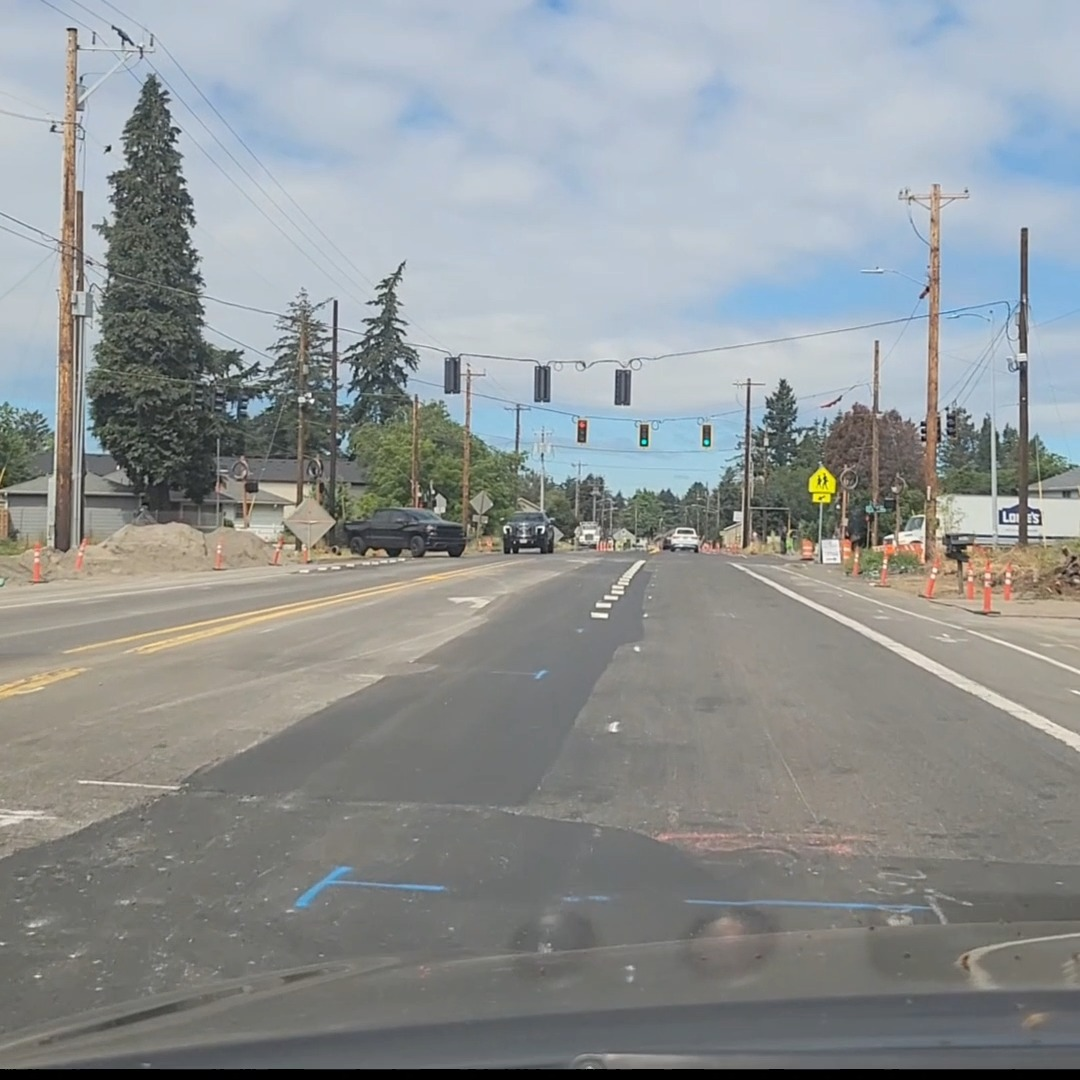car: (340, 507, 465, 557), (498, 510, 556, 553), (661, 527, 702, 552), (574, 520, 602, 548)
crosswalk-sign: (808, 465, 836, 495)
delineator: (968, 566, 1000, 615), (920, 552, 940, 598), (877, 545, 892, 585), (30, 542, 44, 583), (75, 538, 89, 571), (269, 535, 284, 565), (1001, 564, 1013, 601), (965, 561, 976, 600), (213, 541, 225, 570), (850, 547, 861, 576), (902, 541, 919, 559), (931, 548, 942, 574), (301, 542, 311, 564)
